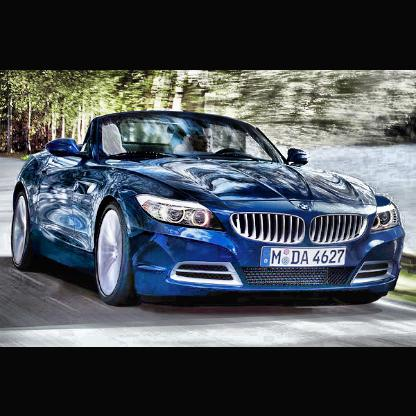BMW Z4 Convertible 2012: (10, 105, 408, 303)
